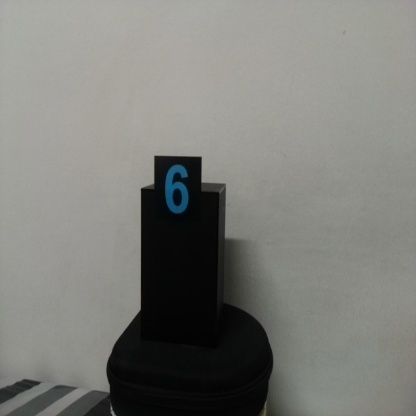id_6: (154, 156, 202, 234)
